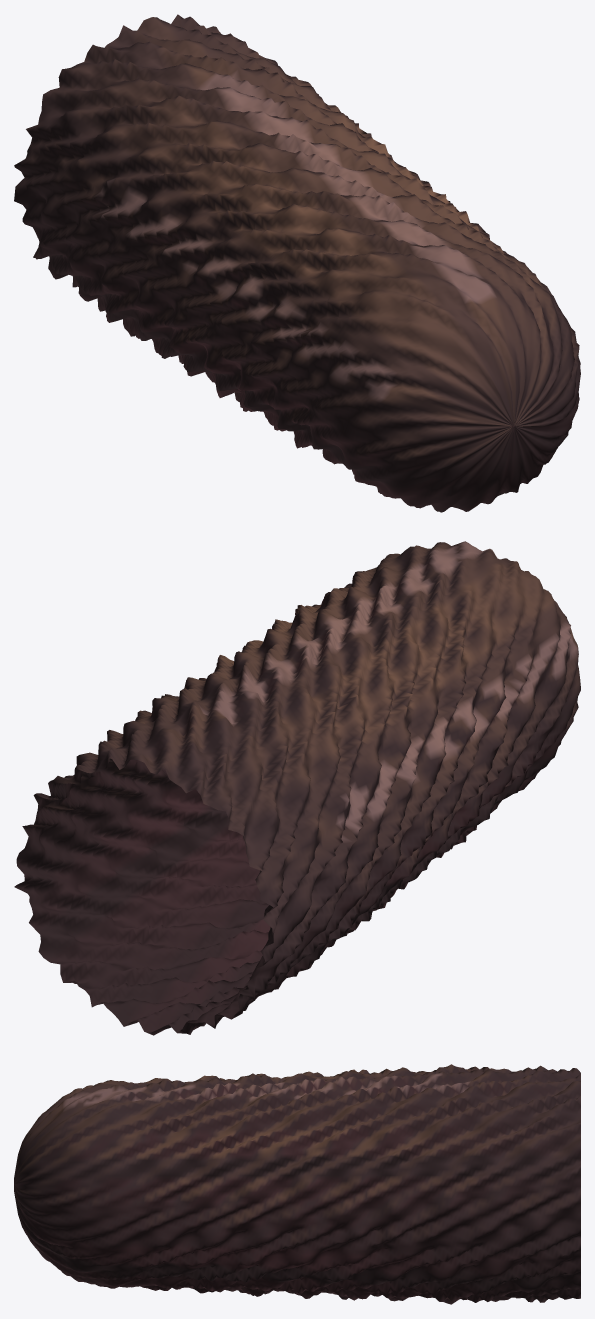
Rendered from lelu_hair_shell.glb.
3 renders of one model, top to bottom at view 1: azimuth 30°, elevation 25°; view 2: azimuth 150°, elevation 25°; view 3: azimuth 270°, elevation 25°, orthographic. The views are drawn at different scales.
Parts seen in each view (by area): view 1: lelu_hair_shell; view 2: lelu_hair_shell; view 3: lelu_hair_shell.
Part boxes in pixels (<box>): lelu_hair_shell: <box>14,14,580,512</box>; lelu_hair_shell: <box>14,541,580,1035</box>; lelu_hair_shell: <box>14,1064,580,1304</box>.
Size of the model in its own units: 1.95 by 1.94 by 4.61.
